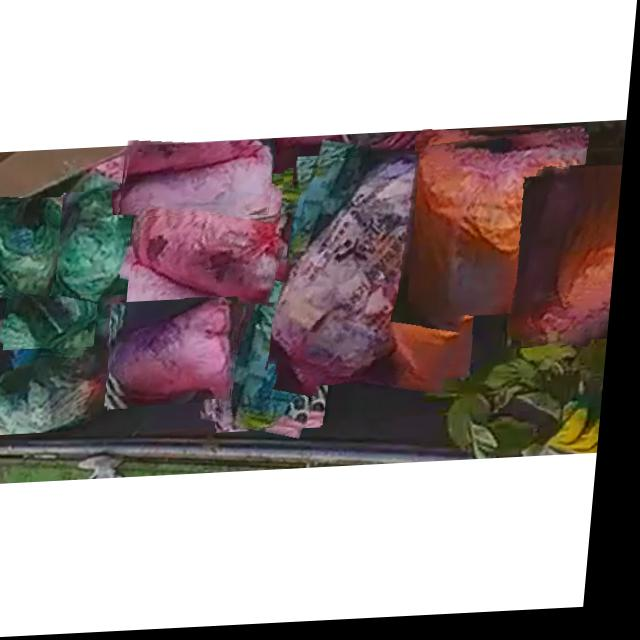general_trashbag: (234, 268, 346, 432), (0, 350, 105, 435), (0, 199, 75, 297), (63, 192, 131, 296), (14, 270, 103, 347)
other_trashbag: (277, 159, 505, 378), (414, 146, 577, 322), (139, 188, 289, 306), (516, 173, 602, 352), (118, 301, 238, 400), (124, 150, 275, 215)
